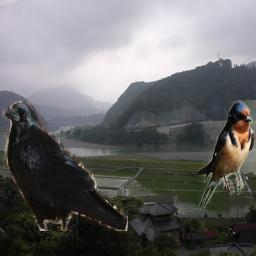Crow: (2, 101, 128, 231)
Swallow: (198, 100, 256, 211)
